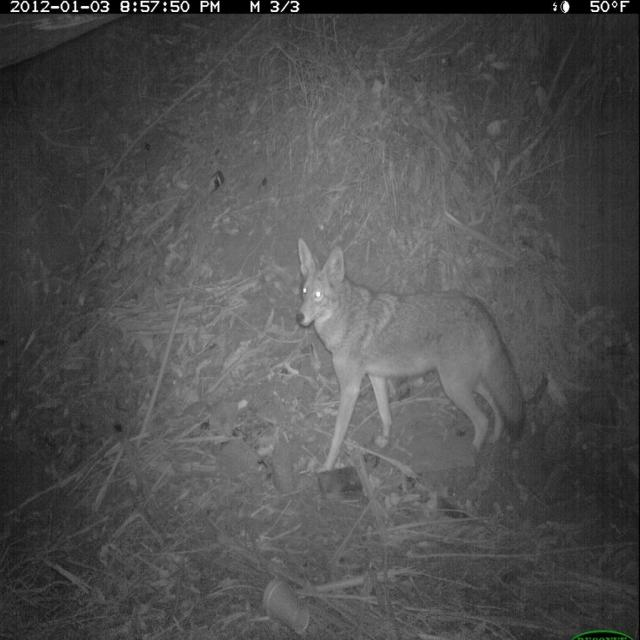coyote: (289, 234, 534, 483)
